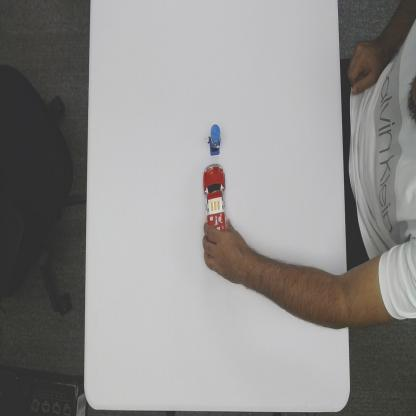Arm: (248, 247, 347, 338)
Firetruck: (202, 162, 229, 233)
Hand: (198, 220, 248, 284)
